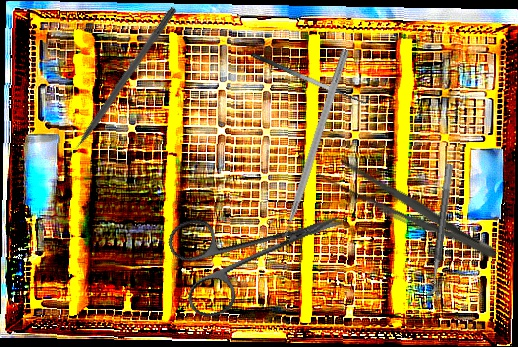Chopper: (266, 45, 350, 251)
Dressing Forceps: (313, 150, 504, 269)
Fixation Ring: (416, 162, 455, 297)
Iris Scissors: (163, 176, 358, 323)
Pusher: (58, 4, 178, 170)
Spatula Surgical: (250, 42, 372, 111)
